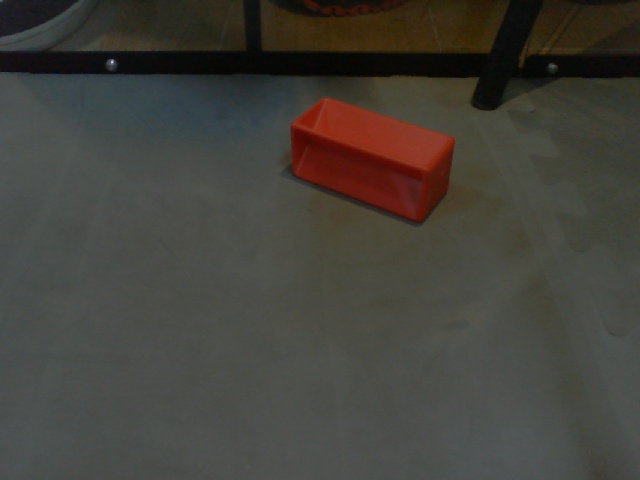RedSample: (288, 94, 458, 225)
